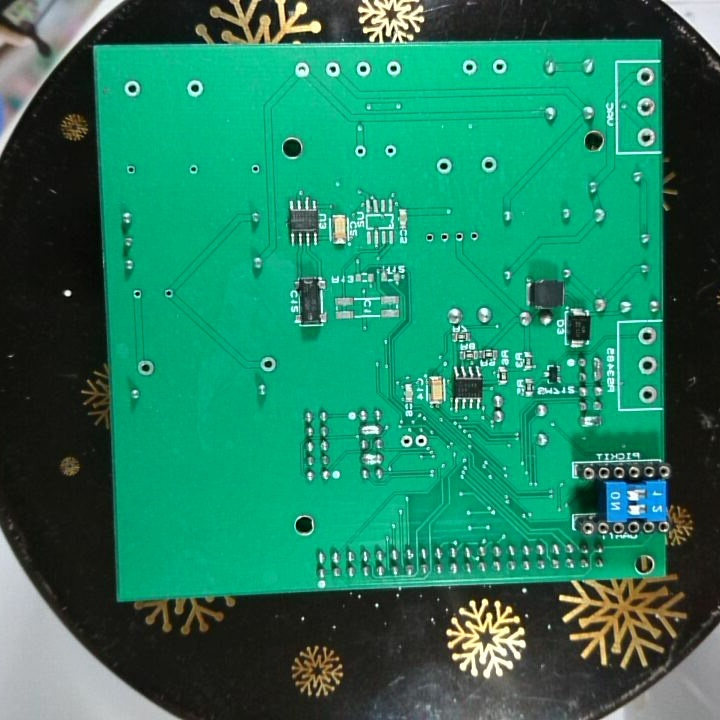F: (634, 93, 658, 120), (634, 64, 656, 89), (185, 77, 207, 102), (637, 382, 659, 406), (637, 355, 659, 378), (434, 155, 456, 178), (134, 358, 157, 380), (258, 354, 280, 377), (478, 151, 499, 175), (635, 126, 656, 149), (488, 57, 511, 78), (383, 58, 404, 80), (121, 78, 142, 100), (292, 57, 312, 80), (459, 57, 480, 78), (636, 326, 658, 346), (323, 58, 343, 80), (354, 58, 373, 80), (414, 429, 430, 453), (120, 161, 141, 179), (183, 160, 203, 178), (382, 139, 399, 160), (129, 285, 146, 306), (245, 159, 263, 177), (466, 226, 483, 245), (397, 432, 414, 449), (353, 143, 371, 159), (161, 285, 177, 303), (422, 230, 437, 249), (451, 229, 466, 245), (438, 229, 450, 246)
P: (576, 414, 604, 430), (590, 354, 605, 383), (359, 450, 384, 467), (357, 423, 384, 438)
